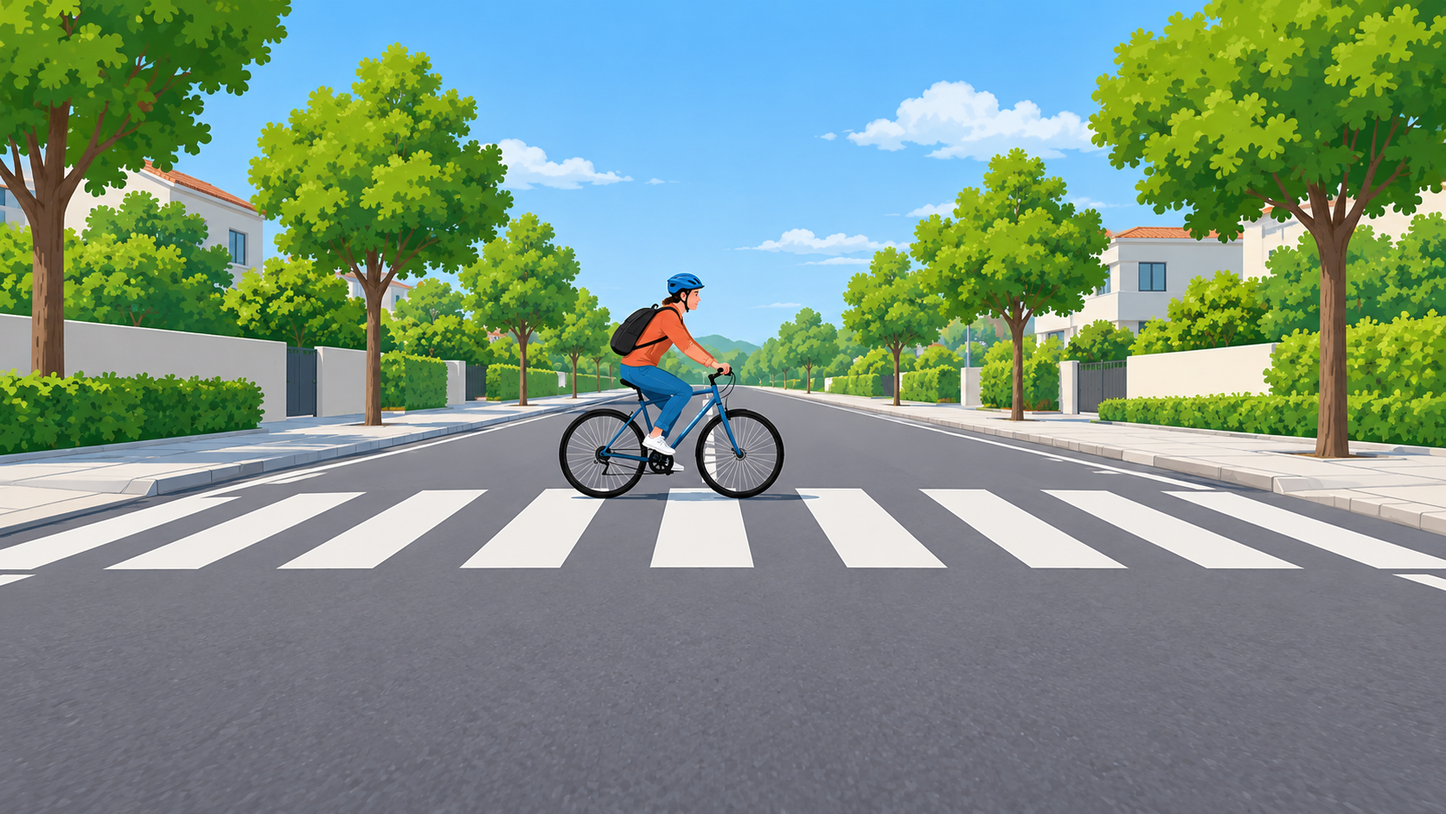bicycle: (560, 356, 781, 498)
person: (605, 272, 739, 458)
zebra_crossing: (0, 487, 1446, 577)
